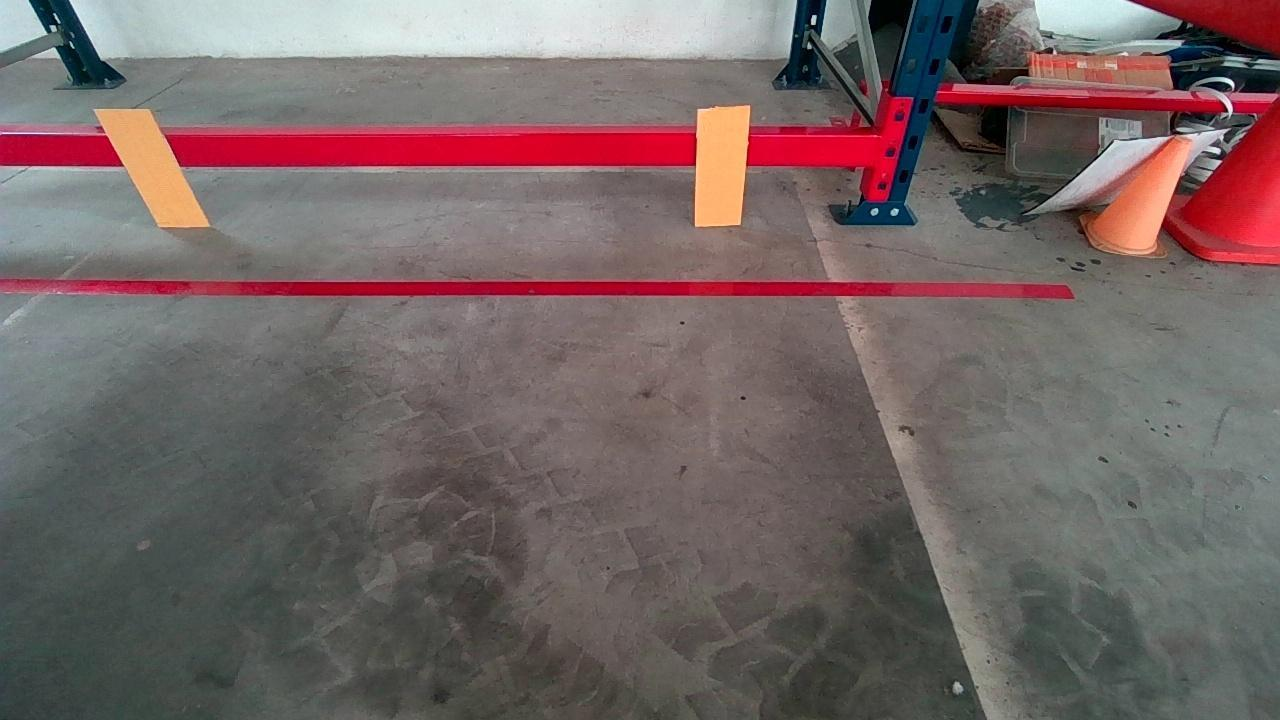h_rack: (6, 119, 872, 166)
orange_strip: (94, 109, 209, 227), (694, 106, 749, 226)
red_line: (6, 267, 1068, 312)
